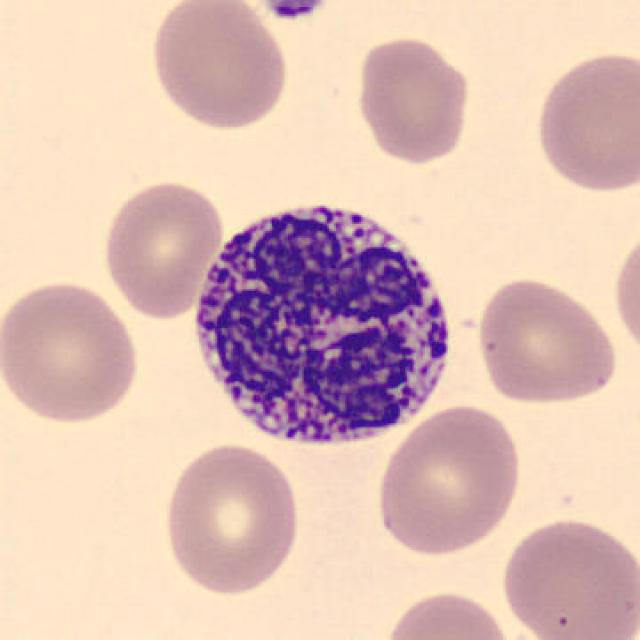Basophil: (180, 182, 471, 460)
Platelets: (258, 0, 332, 23)
RBC: (372, 400, 524, 559), (158, 437, 304, 598), (0, 275, 144, 428), (473, 274, 622, 408), (146, 0, 292, 132), (98, 176, 226, 321), (496, 515, 636, 640), (350, 31, 475, 168), (530, 46, 638, 196), (380, 585, 516, 640), (610, 224, 640, 361)
